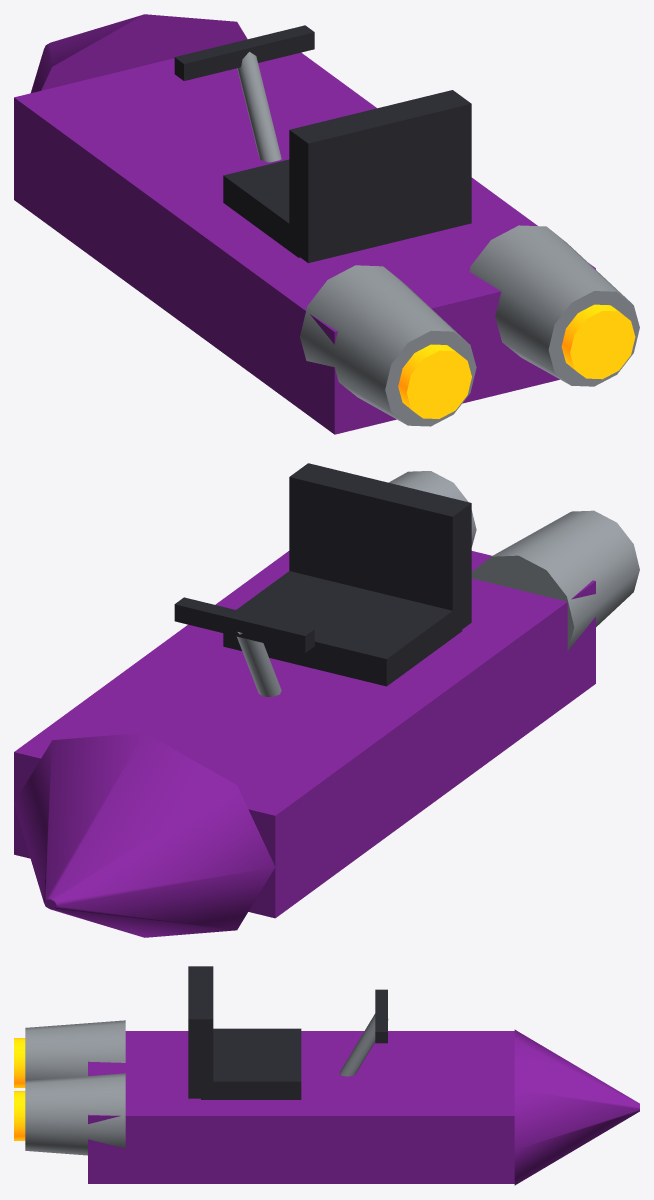
Rendered from kart_rocket.glb.
The picture shows the model from 3 angles, top to bottom: view 1: azimuth 30°, elevation 25°; view 2: azimuth 150°, elevation 25°; view 3: azimuth 270°, elevation 25°; orthographic projection. The views are drawn at different scales.
Visible parts, largest first — view 1: kart_rocket; view 2: kart_rocket; view 3: kart_rocket.
Boxes of the visible parts, <box> form: kart_rocket: <box>14,14,639,434</box>; kart_rocket: <box>14,463,639,937</box>; kart_rocket: <box>14,966,639,1185</box>.
Bounding box in the file's own units: 0.84 × 0.805 × 2.5.
